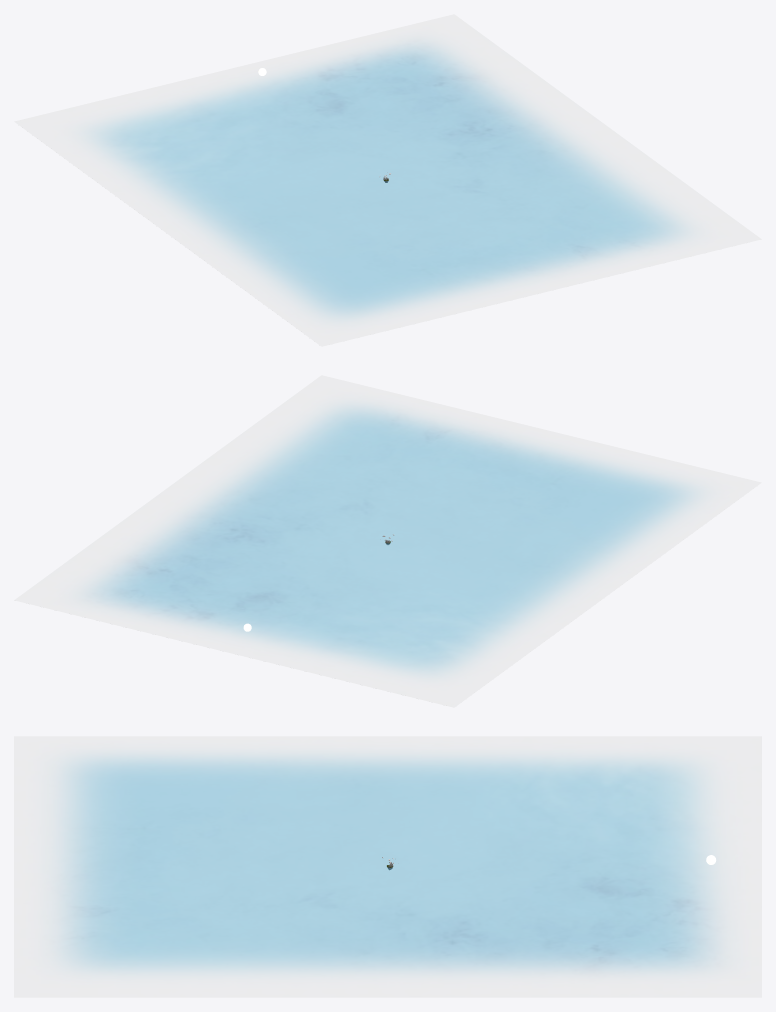
The model's file is Waterbody_Thin_2.glb.
The picture shows the model from 3 angles, top to bottom: view 1: azimuth 30°, elevation 25°; view 2: azimuth 150°, elevation 25°; view 3: azimuth 270°, elevation 25°; orthographic projection. The views are drawn at different scales.
Visible parts, largest first — view 1: Sea; view 2: Sea; view 3: Sea.
Part boxes in pixels (x1,y1,x2,y2): Sea: (14,14,761,346); Sea: (14,375,761,707); Sea: (14,736,761,997).
Bounding box in the file's own units: 156710 × 5414 × 189635.
Materials: 6 (5 with a texture image).
